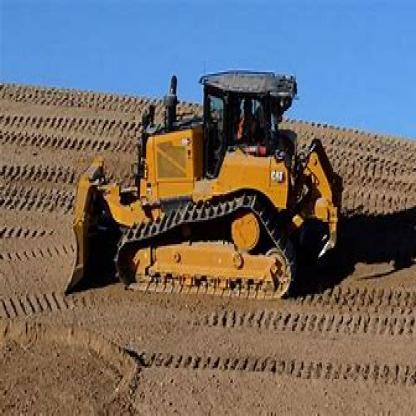bull_dozer/loader/grader: (61, 56, 353, 304)
